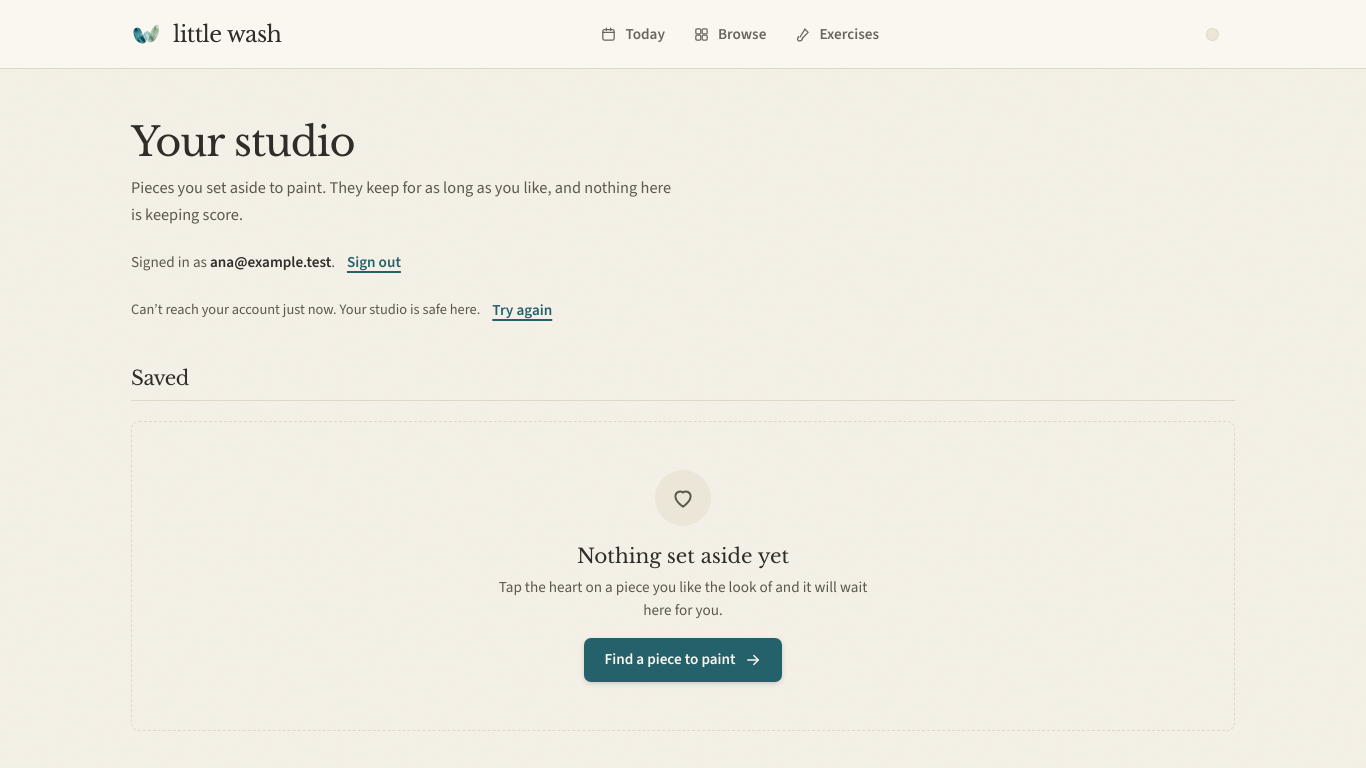
Scenario: signed in › offers a way to try again when the account cannot be reached
Expected: the text "Can’t reach your account just now. Your studio is safe here." is shown, [131, 299, 480, 321]
Click the button "Try again". click: (522, 310)
box: [488, 288, 556, 332]
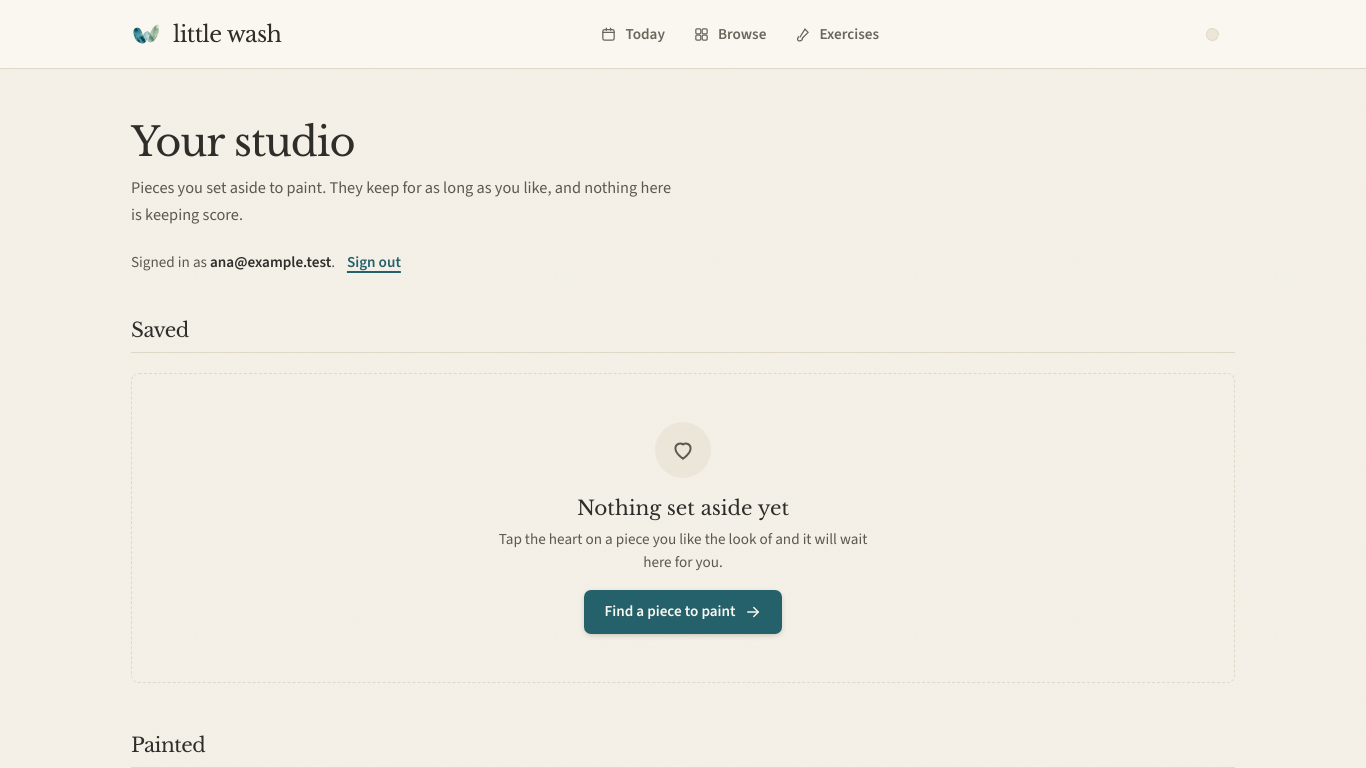
Expected: the text "can.t reach" is gone
